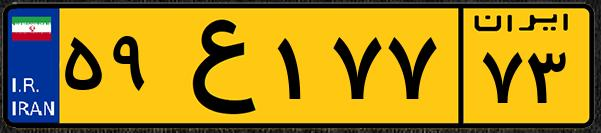1: (270, 28, 330, 110)
3: (525, 38, 570, 115)
5: (57, 26, 110, 100)
7: (385, 28, 445, 110), (330, 28, 385, 110), (475, 38, 525, 113)
9: (110, 28, 158, 98)
ع: (158, 12, 270, 120)
